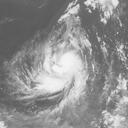cyclone: (35, 50, 86, 102)
